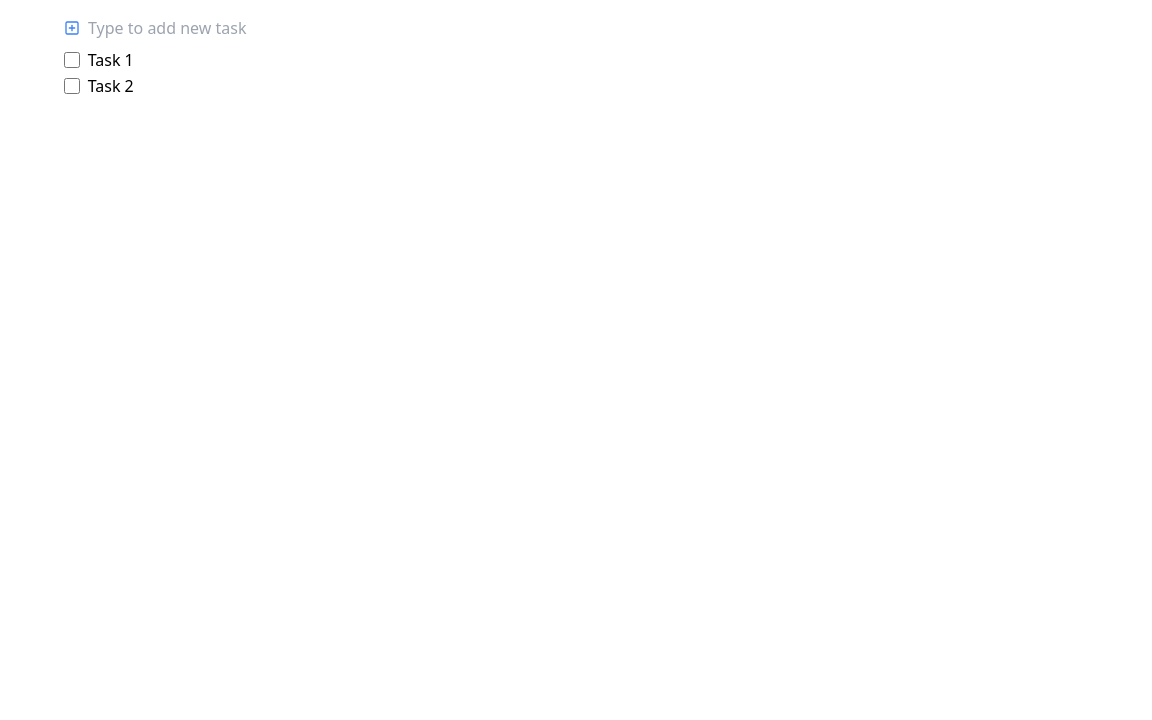
Test: <App/> › Edit a task › render error message if error network
The image size is (1152, 720).
Step 1. Click the element named "task-item" → x=111, y=60, box [88,49,134,71]
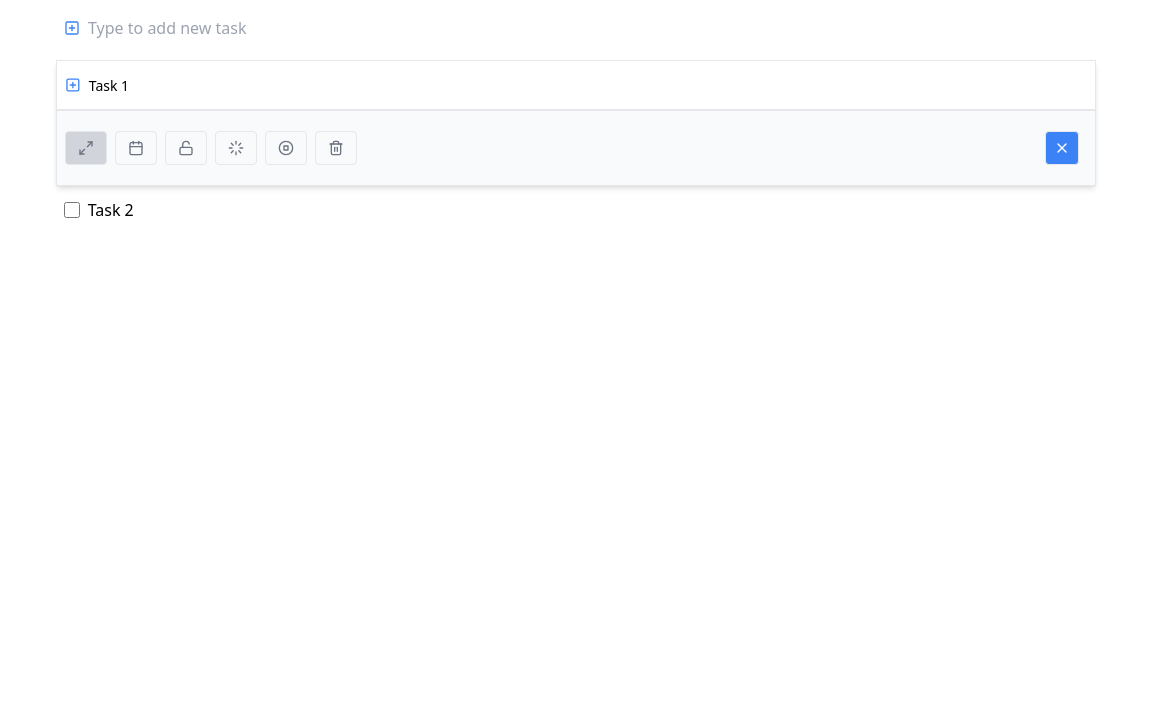
Expected: the text "Type to add new task" is shown, [88,16,246,40]
Step 2. Type "Edited" into the field named "task-content" → x=584, y=85, box [81,69,1087,101]
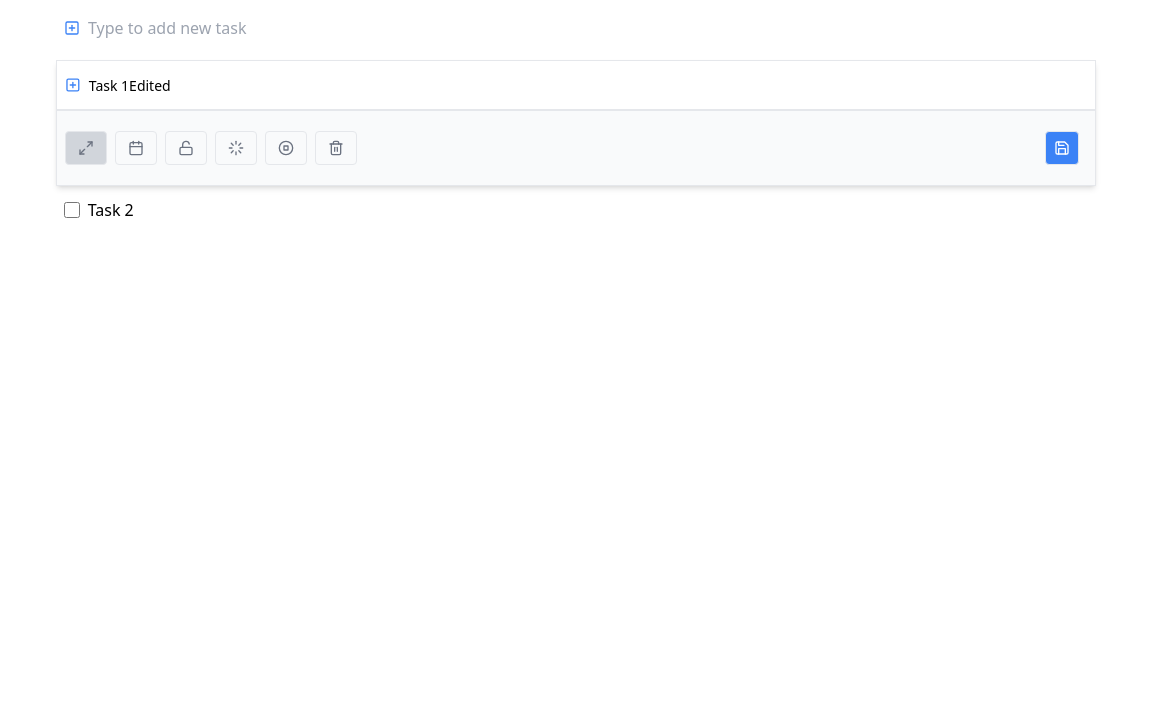
Step 3. Click the button with test id "edit-save-button" → x=1062, y=148, box [1045,131,1079,165]
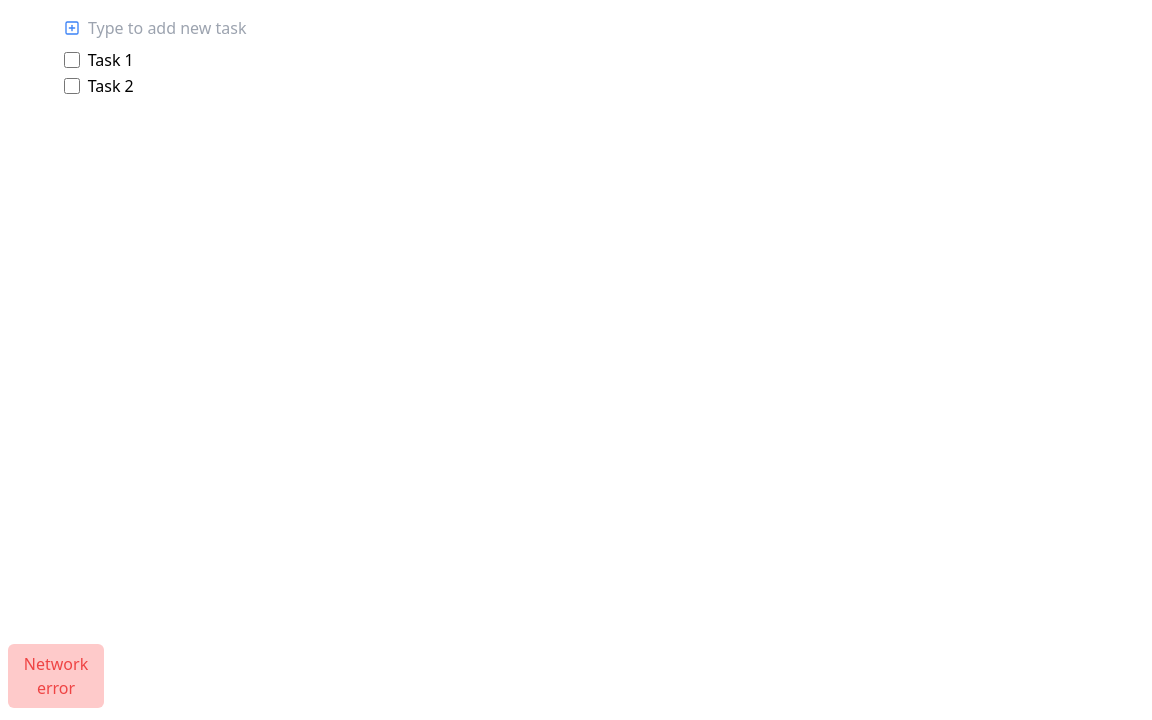
Expected: the text "Network error" is shown, [8,644,104,708]
